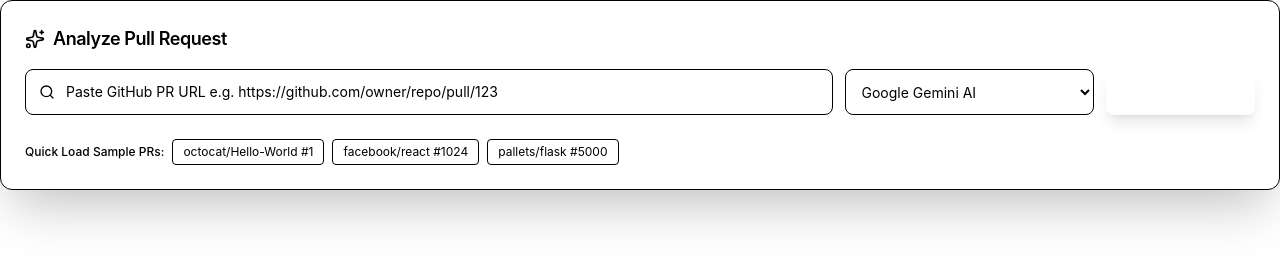
Test case: PRInputForm › shows error message on empty submit
Click the button "Start AI Review".
click(1180, 92)  # box [1106,69,1255,115]
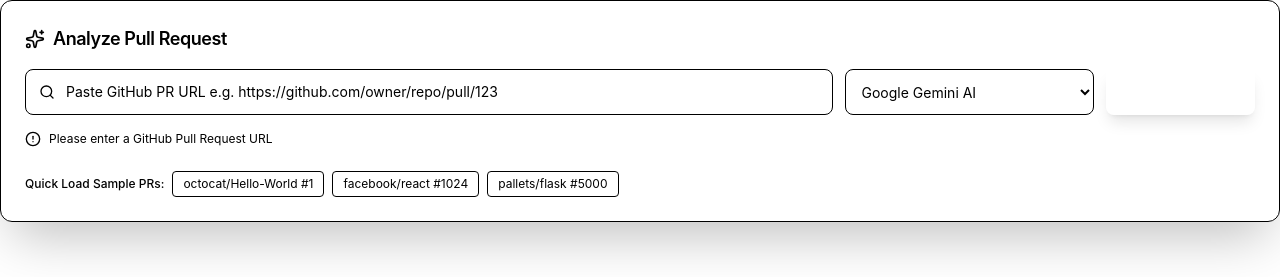
Expected: the text "Please enter a GitHub Pull Request URL" is shown, [49,131,272,147]
